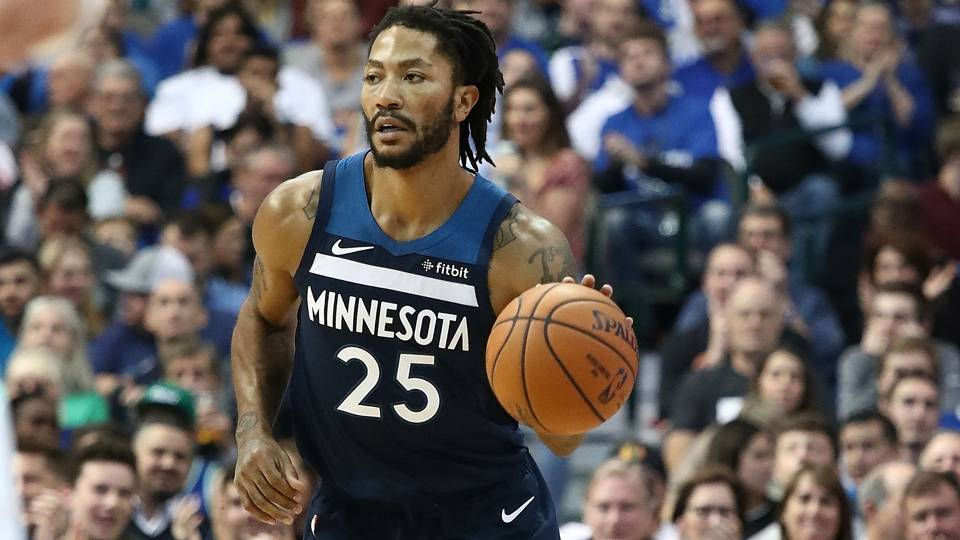Basketball: (483, 283, 639, 438)
